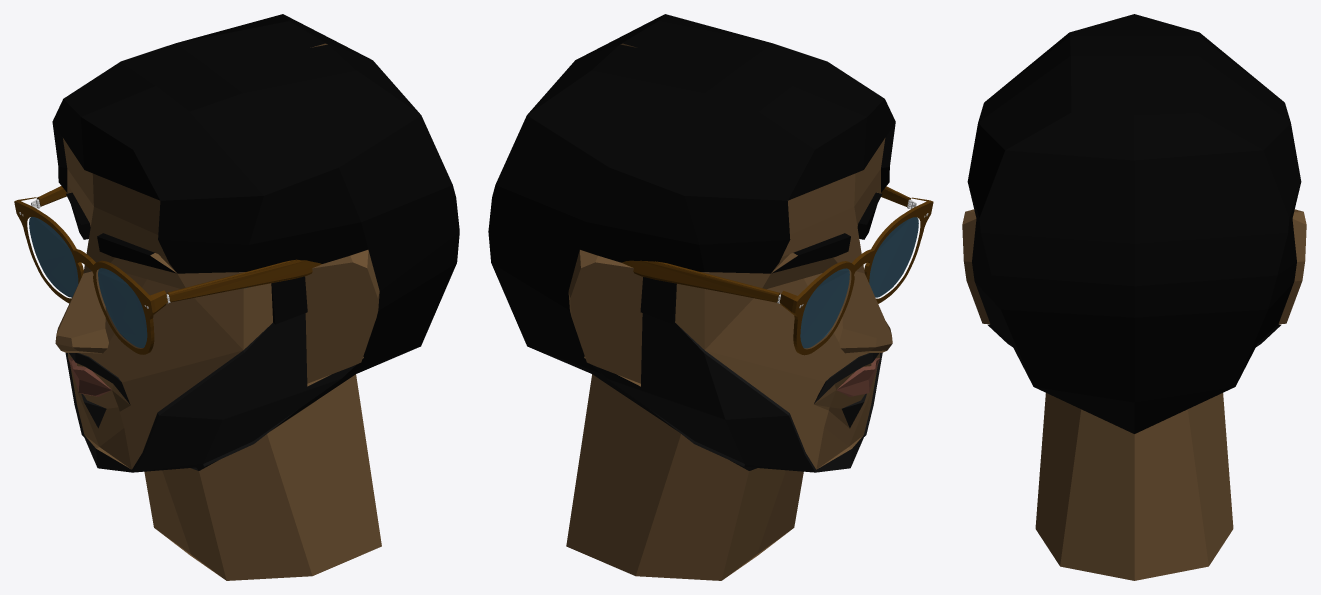
File: self.glb
The picture shows the model from 3 angles, left to right: view 1: azimuth 30°, elevation 25°; view 2: azimuth 150°, elevation 25°; view 3: azimuth 270°, elevation 25°; orthographic projection. The views are drawn at different scales.
Parts seen in each view (by area): view 1: Face-1, Glasses_Mesh; view 2: Face-1, Glasses_Mesh; view 3: Face-1.
Boxes of the visible parts, x1=… form: Face-1: x1=52, y1=14, x2=459, y2=580; Glasses_Mesh: x1=14, y1=186, x2=321, y2=354; Face-1: x1=488, y1=14, x2=895, y2=580; Glasses_Mesh: x1=622, y1=186, x2=933, y2=355; Face-1: x1=962, y1=14, x2=1306, y2=580.
Size of the model in its own units: 5.98 by 7.83 by 5.41.
